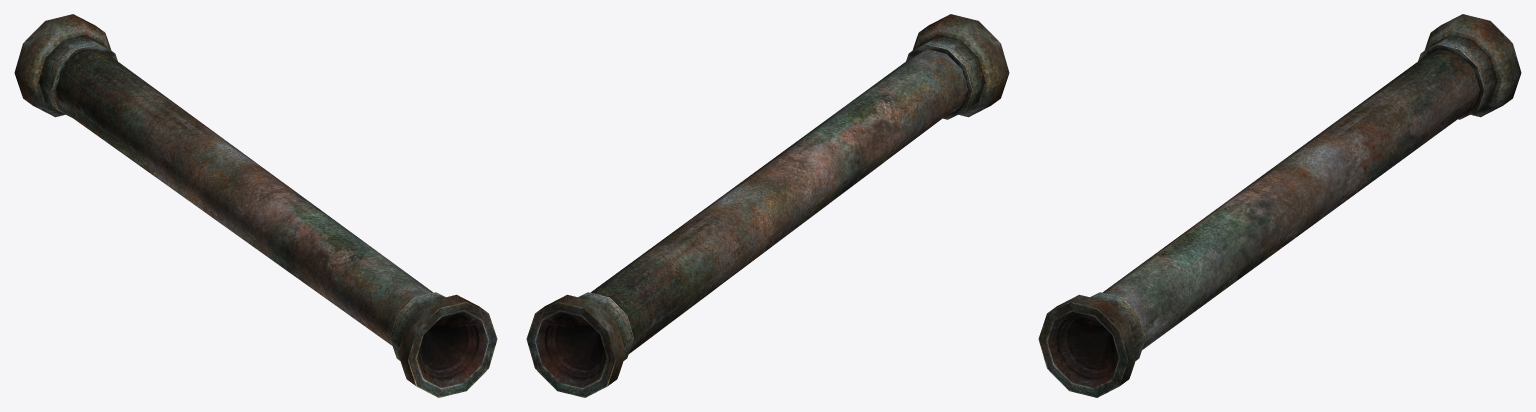
The model's file is pipe_medium_short_pplant.dae.
3 views of the same model, side by side, from view 1: azimuth 30°, elevation 25°; view 2: azimuth 150°, elevation 25°; view 3: azimuth 330°, elevation 25° (orthographic).
Visible parts, largest first — view 1: pipe_medium_short_pplant; view 2: pipe_medium_short_pplant; view 3: pipe_medium_short_pplant.
Boxes of the visible parts, <box> form: pipe_medium_short_pplant: <box>14,14,497,397</box>; pipe_medium_short_pplant: <box>526,14,1009,397</box>; pipe_medium_short_pplant: <box>1038,14,1521,397</box>.
Bounding box in the file's own units: 0.2637 × 0.2508 × 2.
